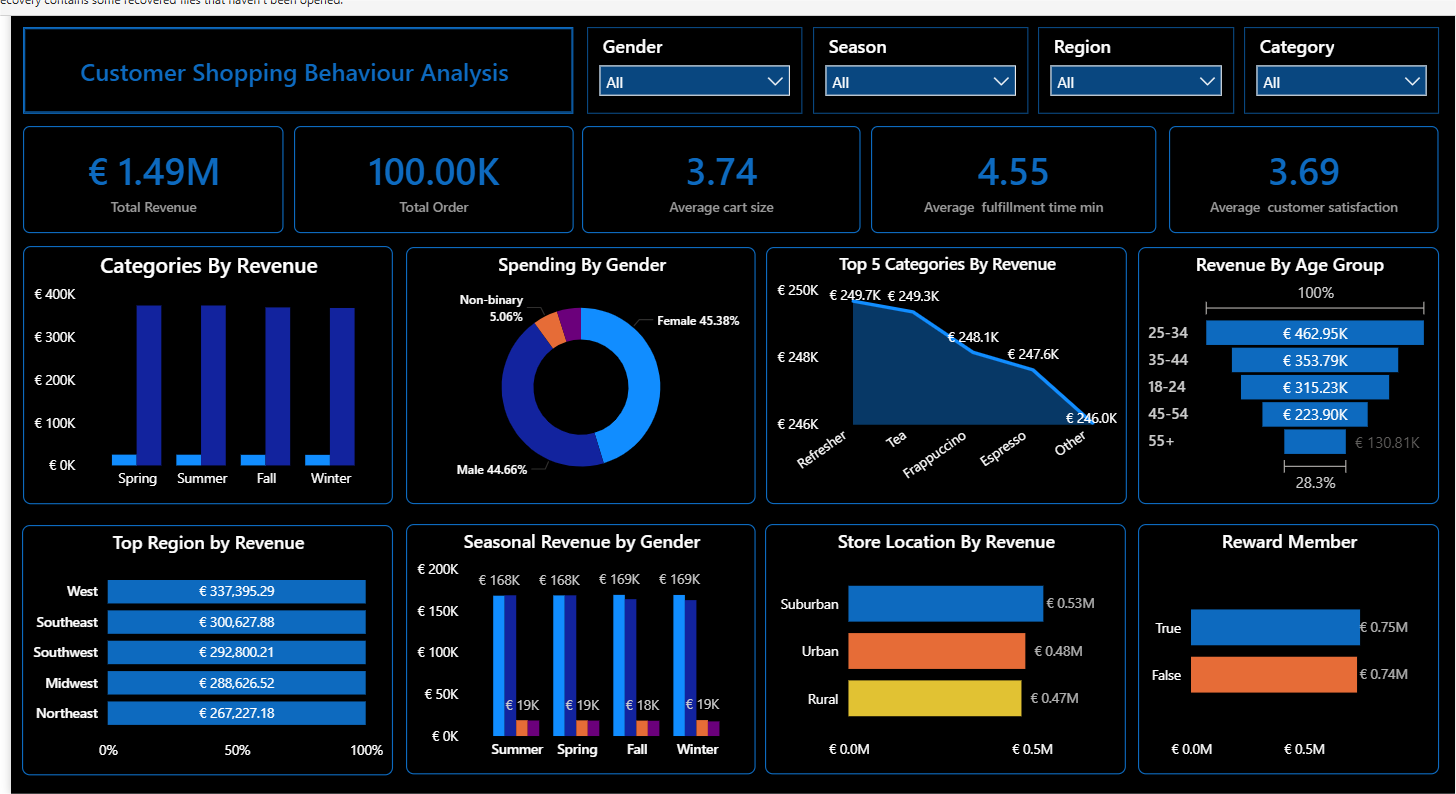

Layout of this report page (visuals, bound fields, positions):
{"tool":"powerbi","page":{"name":"Page 1","canvas":[1280,720],"ordinal":0},"visuals":[{"type":"card","fields":{"Values":["Sum(starbucks_customer_ordering_patterns.total_spend)"]},"box":[10.7,126.4,231.5,95.3],"z":0},{"type":"card","fields":{"Values":["CountNonNull(starbucks_customer_ordering_patterns.order_id)"]},"box":[250.9,126.4,248,95.3],"z":1000},{"type":"card","fields":{"Values":["Avg(starbucks_customer_ordering_patterns.cart_size)"]},"box":[506.7,126.4,247.1,95.3],"z":2000},{"type":"card","fields":{"Values":["Avg(starbucks_customer_ordering_patterns.fulfillment_time_min)"]},"box":[762.6,126.4,252.9,95.3],"z":3000},{"type":"card","fields":{"Values":["Avg(starbucks_customer_ordering_patterns.customer_satisfaction)"]},"box":[1027.1,126.4,239.3,95.3],"z":4000},{"type":"shape","box":[10.7,38.9,488.3,76.8],"z":5000},{"type":"textbox","box":[10.7,58.4,481.5,38.9],"z":6000},{"type":"clusteredColumnChart","title":"Categories By Revenue","fields":{"Category":["calender table.Season"],"Y":["CountNonNull(starbucks_customer_ordering_patterns.drink_category)","Sum(starbucks_customer_ordering_patterns.total_spend)"]},"box":[10.7,233.4,327.8,228.6],"z":7000},{"type":"donutChart","title":"Spending By Gender","fields":{"Y":["Sum(starbucks_customer_ordering_patterns.total_spend)"],"Category":["starbucks_customer_ordering_patterns.customer_gender"]},"box":[350.2,234.4,310.3,227.6],"z":8000},{"type":"areaChart","title":"Top 5 Categories By Revenue","fields":{"Category":["starbucks_customer_ordering_patterns.drink_category"],"Y":["Sum(starbucks_customer_ordering_patterns.total_spend)"]},"box":[669.2,234.4,320,227.6],"z":9000},{"type":"funnel","title":"Revenue By Age Group","fields":{"Y":["Sum(starbucks_customer_ordering_patterns.total_spend)"],"Category":["starbucks_customer_ordering_patterns.customer_age_group"]},"box":[998.9,234.4,267.5,227.6],"z":10000},{"type":"hundredPercentStackedBarChart","title":"Top Region by Revenue","fields":{"Category":["starbucks_customer_ordering_patterns.region"],"Y":["Sum(starbucks_customer_ordering_patterns.total_spend)"]},"box":[9.7,480.5,328.8,221.8],"z":11000},{"type":"lineClusteredColumnComboChart","title":"Seasonal Revenue by Gender","fields":{"Category":["calender table.Season"],"Series":["starbucks_customer_ordering_patterns.customer_gender"],"Y":["Sum(starbucks_customer_ordering_patterns.total_spend)"]},"box":[350,480,310,222],"z":12000},{"type":"clusteredBarChart","title":"Store Location By Revenue","fields":{"Category":["starbucks_customer_ordering_patterns.store_location_type"],"Y":["Sum(starbucks_customer_ordering_patterns.total_spend)"]},"box":[669,480,320,222],"z":13000},{"type":"barChart","title":"Reward Member","fields":{"Category":["starbucks_customer_ordering_patterns.is_rewards_member"],"Y":["Sum(starbucks_customer_ordering_patterns.total_spend)"]},"box":[999,480,267,222],"z":14000},{"type":"slicer","fields":{"Values":["starbucks_customer_ordering_patterns.customer_gender"]},"box":[510.6,38.9,190.6,76.8],"z":15000},{"type":"slicer","fields":{"Values":["calender table.Season"]},"box":[711,38.9,190.6,76.8],"z":16000},{"type":"slicer","fields":{"Values":["starbucks_customer_ordering_patterns.drink_category"]},"box":[1093.3,38.9,173.1,76.8],"z":17000},{"type":"slicer","fields":{"Values":["starbucks_customer_ordering_patterns.region"]},"box":[910.4,38.9,174.1,76.8],"z":18000}]}

Visuals, with their boxes on the page's 1280x720 design canvas (x1, y1, x2, y2). These are canvas units, not pixel positions in the 1456x794 screenshot, which may show the page scaled, cropped or inside an application window:
card - Sum(starbucks_customer_ordering_patterns.total_spend): <region>11, 126, 242, 222</region>
card - CountNonNull(starbucks_customer_ordering_patterns.order_id): <region>251, 126, 499, 222</region>
card - Avg(starbucks_customer_ordering_patterns.cart_size): <region>507, 126, 754, 222</region>
card - Avg(starbucks_customer_ordering_patterns.fulfillment_time_min): <region>763, 126, 1016, 222</region>
card - Avg(starbucks_customer_ordering_patterns.customer_satisfaction): <region>1027, 126, 1266, 222</region>
shape: <region>11, 39, 499, 116</region>
textbox: <region>11, 58, 492, 97</region>
"Categories By Revenue" clusteredColumnChart: <region>11, 233, 338, 462</region>
"Spending By Gender" donutChart: <region>350, 234, 660, 462</region>
"Top 5 Categories By Revenue" areaChart: <region>669, 234, 989, 462</region>
"Revenue By Age Group" funnel: <region>999, 234, 1266, 462</region>
"Top Region by Revenue" hundredPercentStackedBarChart: <region>10, 480, 338, 702</region>
"Seasonal Revenue by Gender" lineClusteredColumnComboChart: <region>350, 480, 660, 702</region>
"Store Location By Revenue" clusteredBarChart: <region>669, 480, 989, 702</region>
"Reward Member" barChart: <region>999, 480, 1266, 702</region>
slicer - starbucks_customer_ordering_patterns.customer_gender: <region>511, 39, 701, 116</region>
slicer - calender table.Season: <region>711, 39, 902, 116</region>
slicer - starbucks_customer_ordering_patterns.drink_category: <region>1093, 39, 1266, 116</region>
slicer - starbucks_customer_ordering_patterns.region: <region>910, 39, 1084, 116</region>
